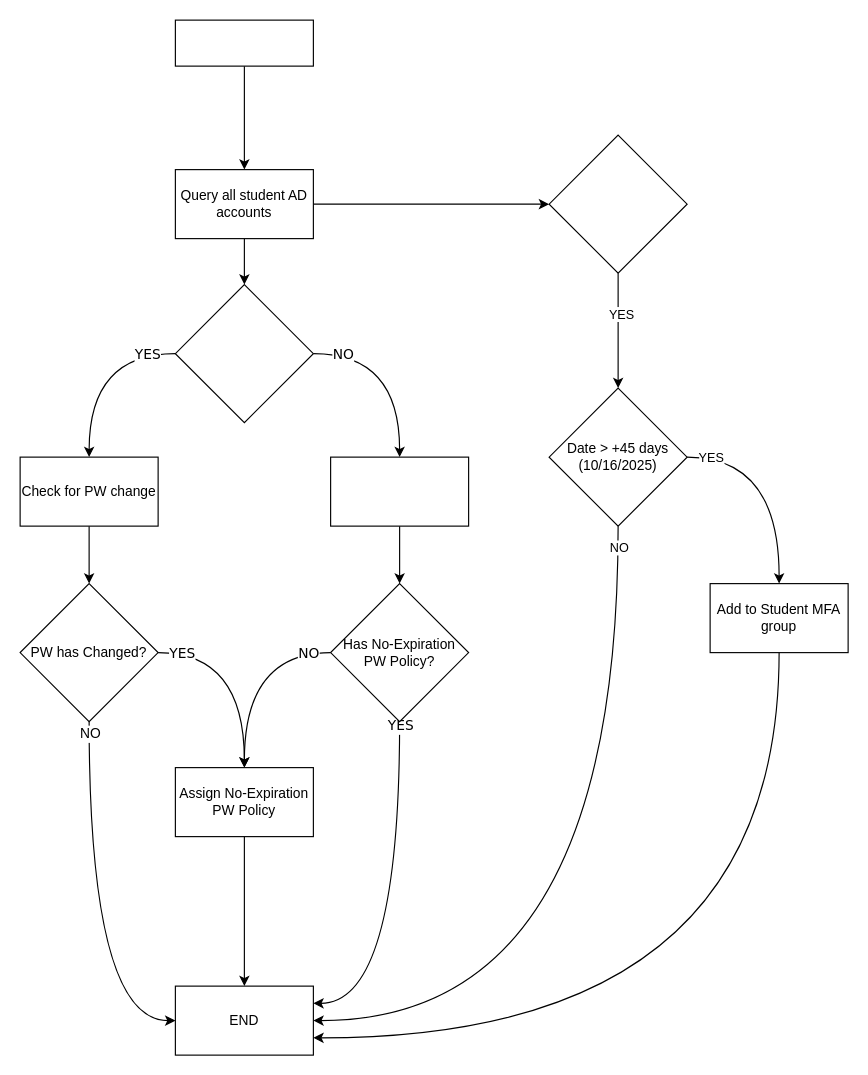
This 868x1075 diagram has some shape labels left out. The centre of each missing label's shape, as x and y in pixels:
Check for No-Expiration PW Policy: the point at 399,491
Created after 09/01/2025: the point at 617,203
Has 45-day PW Policy?: the point at 243,353
Start: the point at 243,42
